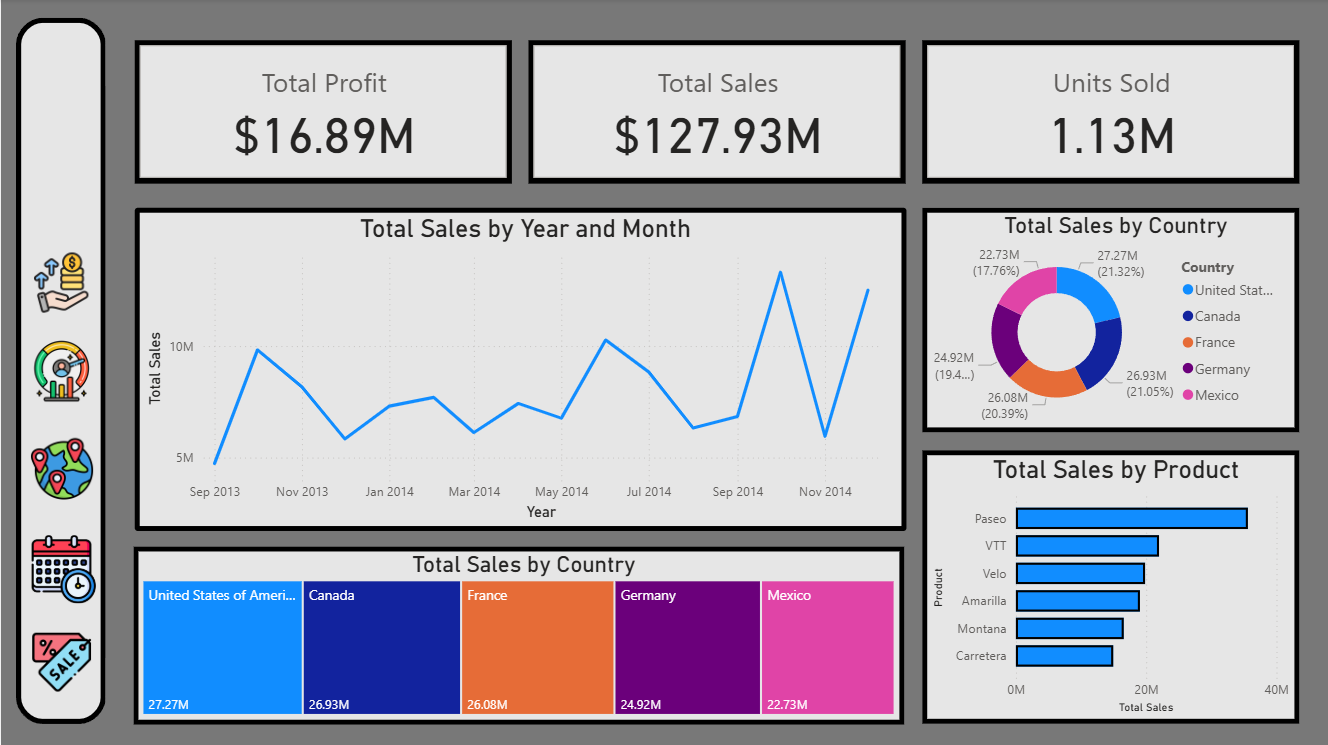

What the dashboard file says about the page in this screenshot:
{"tool":"powerbi","page":{"name":"Overview","canvas":[1280,720],"ordinal":0},"visuals":[{"type":"shape","box":[15,18.3,86.7,681.7],"z":0},{"type":"image","box":[21.7,418.3,75,70],"z":1000},{"type":"image","box":[23.3,325,71.7,70],"z":2000},{"type":"image","box":[21.7,238.3,73.3,70],"z":3000},{"type":"image","box":[23.3,513.3,75,75],"z":4000},{"type":"image","box":[20,606.7,76.7,66.7],"z":5000},{"type":"cardVisual","fields":{"Data":["Measure Table.Total Profit"]},"box":[128.6,40,364.3,138.6],"z":6000},{"type":"cardVisual","fields":{"Data":["Measure Table.Total Sales"]},"box":[508.6,40,364.3,138.6],"z":7000},{"type":"cardVisual","fields":{"Data":["Measure Table.Total units Sold"]},"box":[888.6,40,364.3,138.6],"z":8000},{"type":"lineChart","fields":{"Y":["Measure Table.Total Sales"],"Category":["financials.Date.Variation.Date Hierarchy.Year","financials.Date.Variation.Date Hierarchy.Month"]},"box":[128.9,201.1,744.4,312.2],"z":9000},{"type":"treemap","fields":{"Values":["Measure Table.Total Sales"],"Group":["financials.Country"]},"box":[128,528,744,172],"z":10000},{"type":"donutChart","fields":{"Category":["financials.Country"],"Y":["Measure Table.Total Sales"]},"box":[888.6,201.4,364.3,217.1],"z":11000},{"type":"clusteredBarChart","fields":{"Y":["Measure Table.Total Sales"],"Category":["financials.Product"]},"box":[888.6,435.7,364.3,264.3],"z":12000}]}

Visuals, with their boxes in screenshot pixels (x1, y1, x2, y2), scaled from the page's 1280x720 canvas onto the 1328x745 screenshot:
shape: (16,19,106,724)
image: (23,433,100,505)
image: (24,336,99,409)
image: (23,247,99,319)
image: (24,531,102,609)
image: (21,628,100,697)
cardVisual - Measure Table.Total Profit: (133,41,511,185)
cardVisual - Measure Table.Total Sales: (528,41,906,185)
cardVisual - Measure Table.Total units Sold: (922,41,1300,185)
lineChart - Measure Table.Total Sales x financials.Date.Variation.Date Hierarchy.Year: (134,208,906,531)
treemap - Measure Table.Total Sales x financials.Country: (133,546,905,724)
donutChart - financials.Country x Measure Table.Total Sales: (922,208,1300,433)
clusteredBarChart - Measure Table.Total Sales x financials.Product: (922,451,1300,724)
